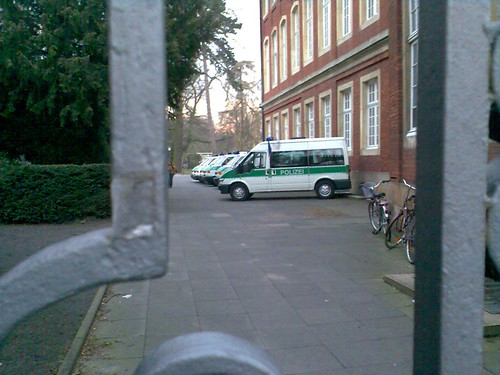bicicle: (362, 173, 392, 239), (389, 180, 419, 246)
building: (262, 1, 422, 176)
police car: (221, 136, 359, 205)
tree: (1, 1, 219, 138)
